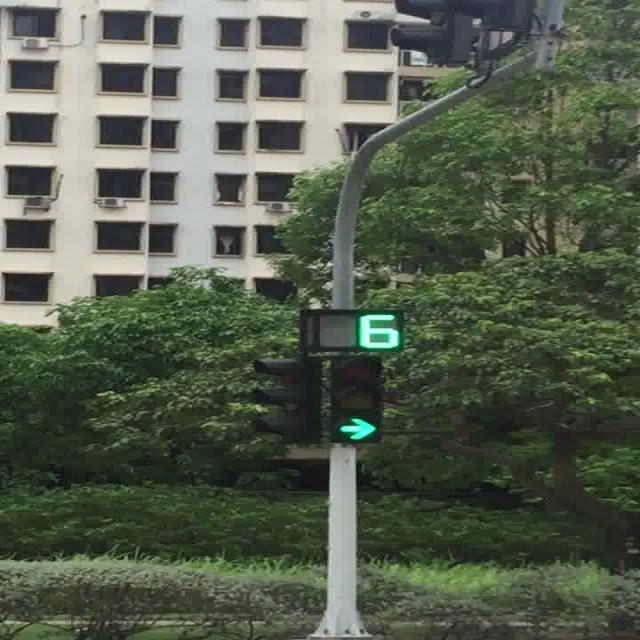traffic light: (253, 358, 321, 446), (390, 0, 474, 66), (329, 357, 384, 445), (300, 309, 405, 355), (392, 0, 537, 32)
